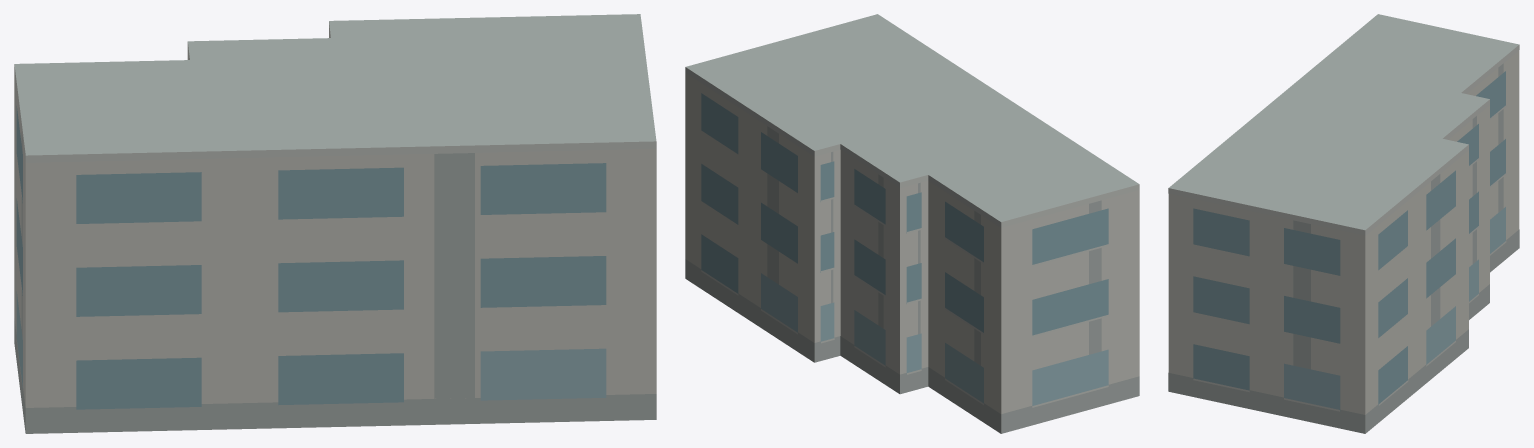
File: residential-65b1dab6-1adc-42f0-9250-02491a153d31.glb
The picture shows the model from 3 angles, left to right: view 1: azimuth 30°, elevation 25°; view 2: azimuth 150°, elevation 25°; view 3: azimuth 270°, elevation 25°; orthographic projection. The views are drawn at different scales.
Visible parts, largest first — view 1: residential-65b1dab6-1adc-42f0-9250-02491a153d31.tmp; view 2: residential-65b1dab6-1adc-42f0-9250-02491a153d31.tmp; view 3: residential-65b1dab6-1adc-42f0-9250-02491a153d31.tmp.
Boxes of the visible parts, x1,y1,x2,y2 form: residential-65b1dab6-1adc-42f0-9250-02491a153d31.tmp: (14, 14, 656, 433); residential-65b1dab6-1adc-42f0-9250-02491a153d31.tmp: (685, 14, 1139, 433); residential-65b1dab6-1adc-42f0-9250-02491a153d31.tmp: (1168, 14, 1519, 433).
Size of the model in its own units: 20.51 by 9 by 14.07.
